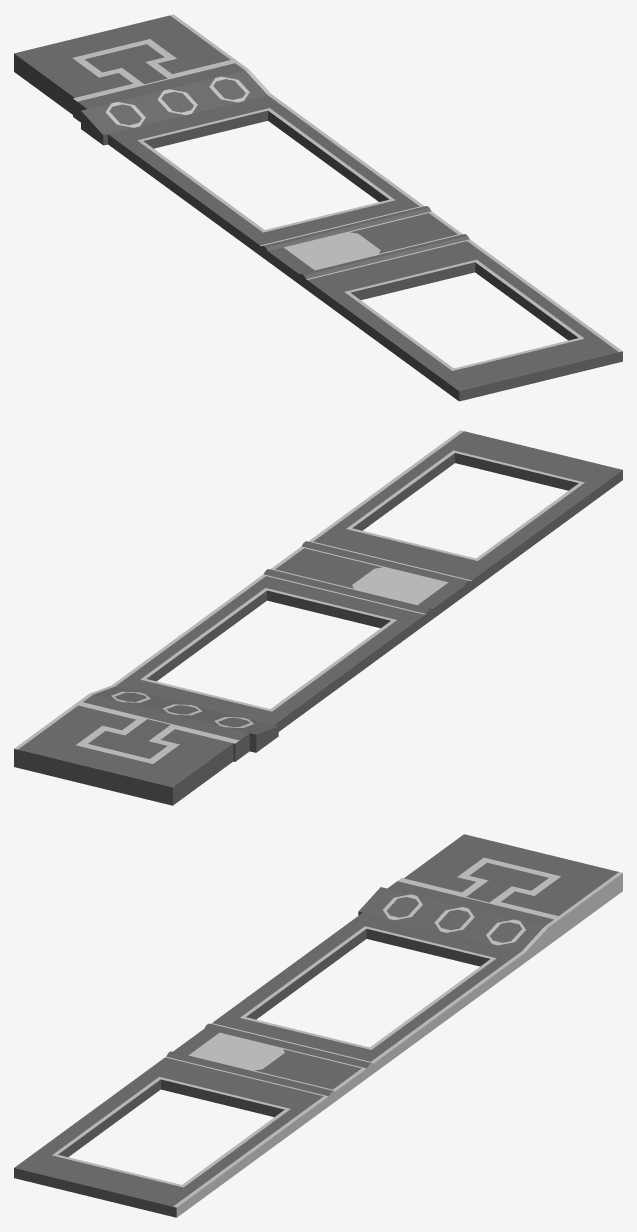
The model's file is SideArena_Floor.obj.
The picture shows the model from 3 angles, top to bottom: view 1: azimuth 30°, elevation 25°; view 2: azimuth 150°, elevation 25°; view 3: azimuth 330°, elevation 25°; orthographic projection.
Visible parts, largest first — view 1: SideArena_Floor; view 2: SideArena_Floor; view 3: SideArena_Floor.
Boxes of the visible parts, bbox=[...] form: SideArena_Floor: bbox=[14, 14, 622, 401]; SideArena_Floor: bbox=[14, 430, 622, 805]; SideArena_Floor: bbox=[14, 834, 622, 1217].
Bounding box in the file's own units: 43.16 × 4.5 × 200.
